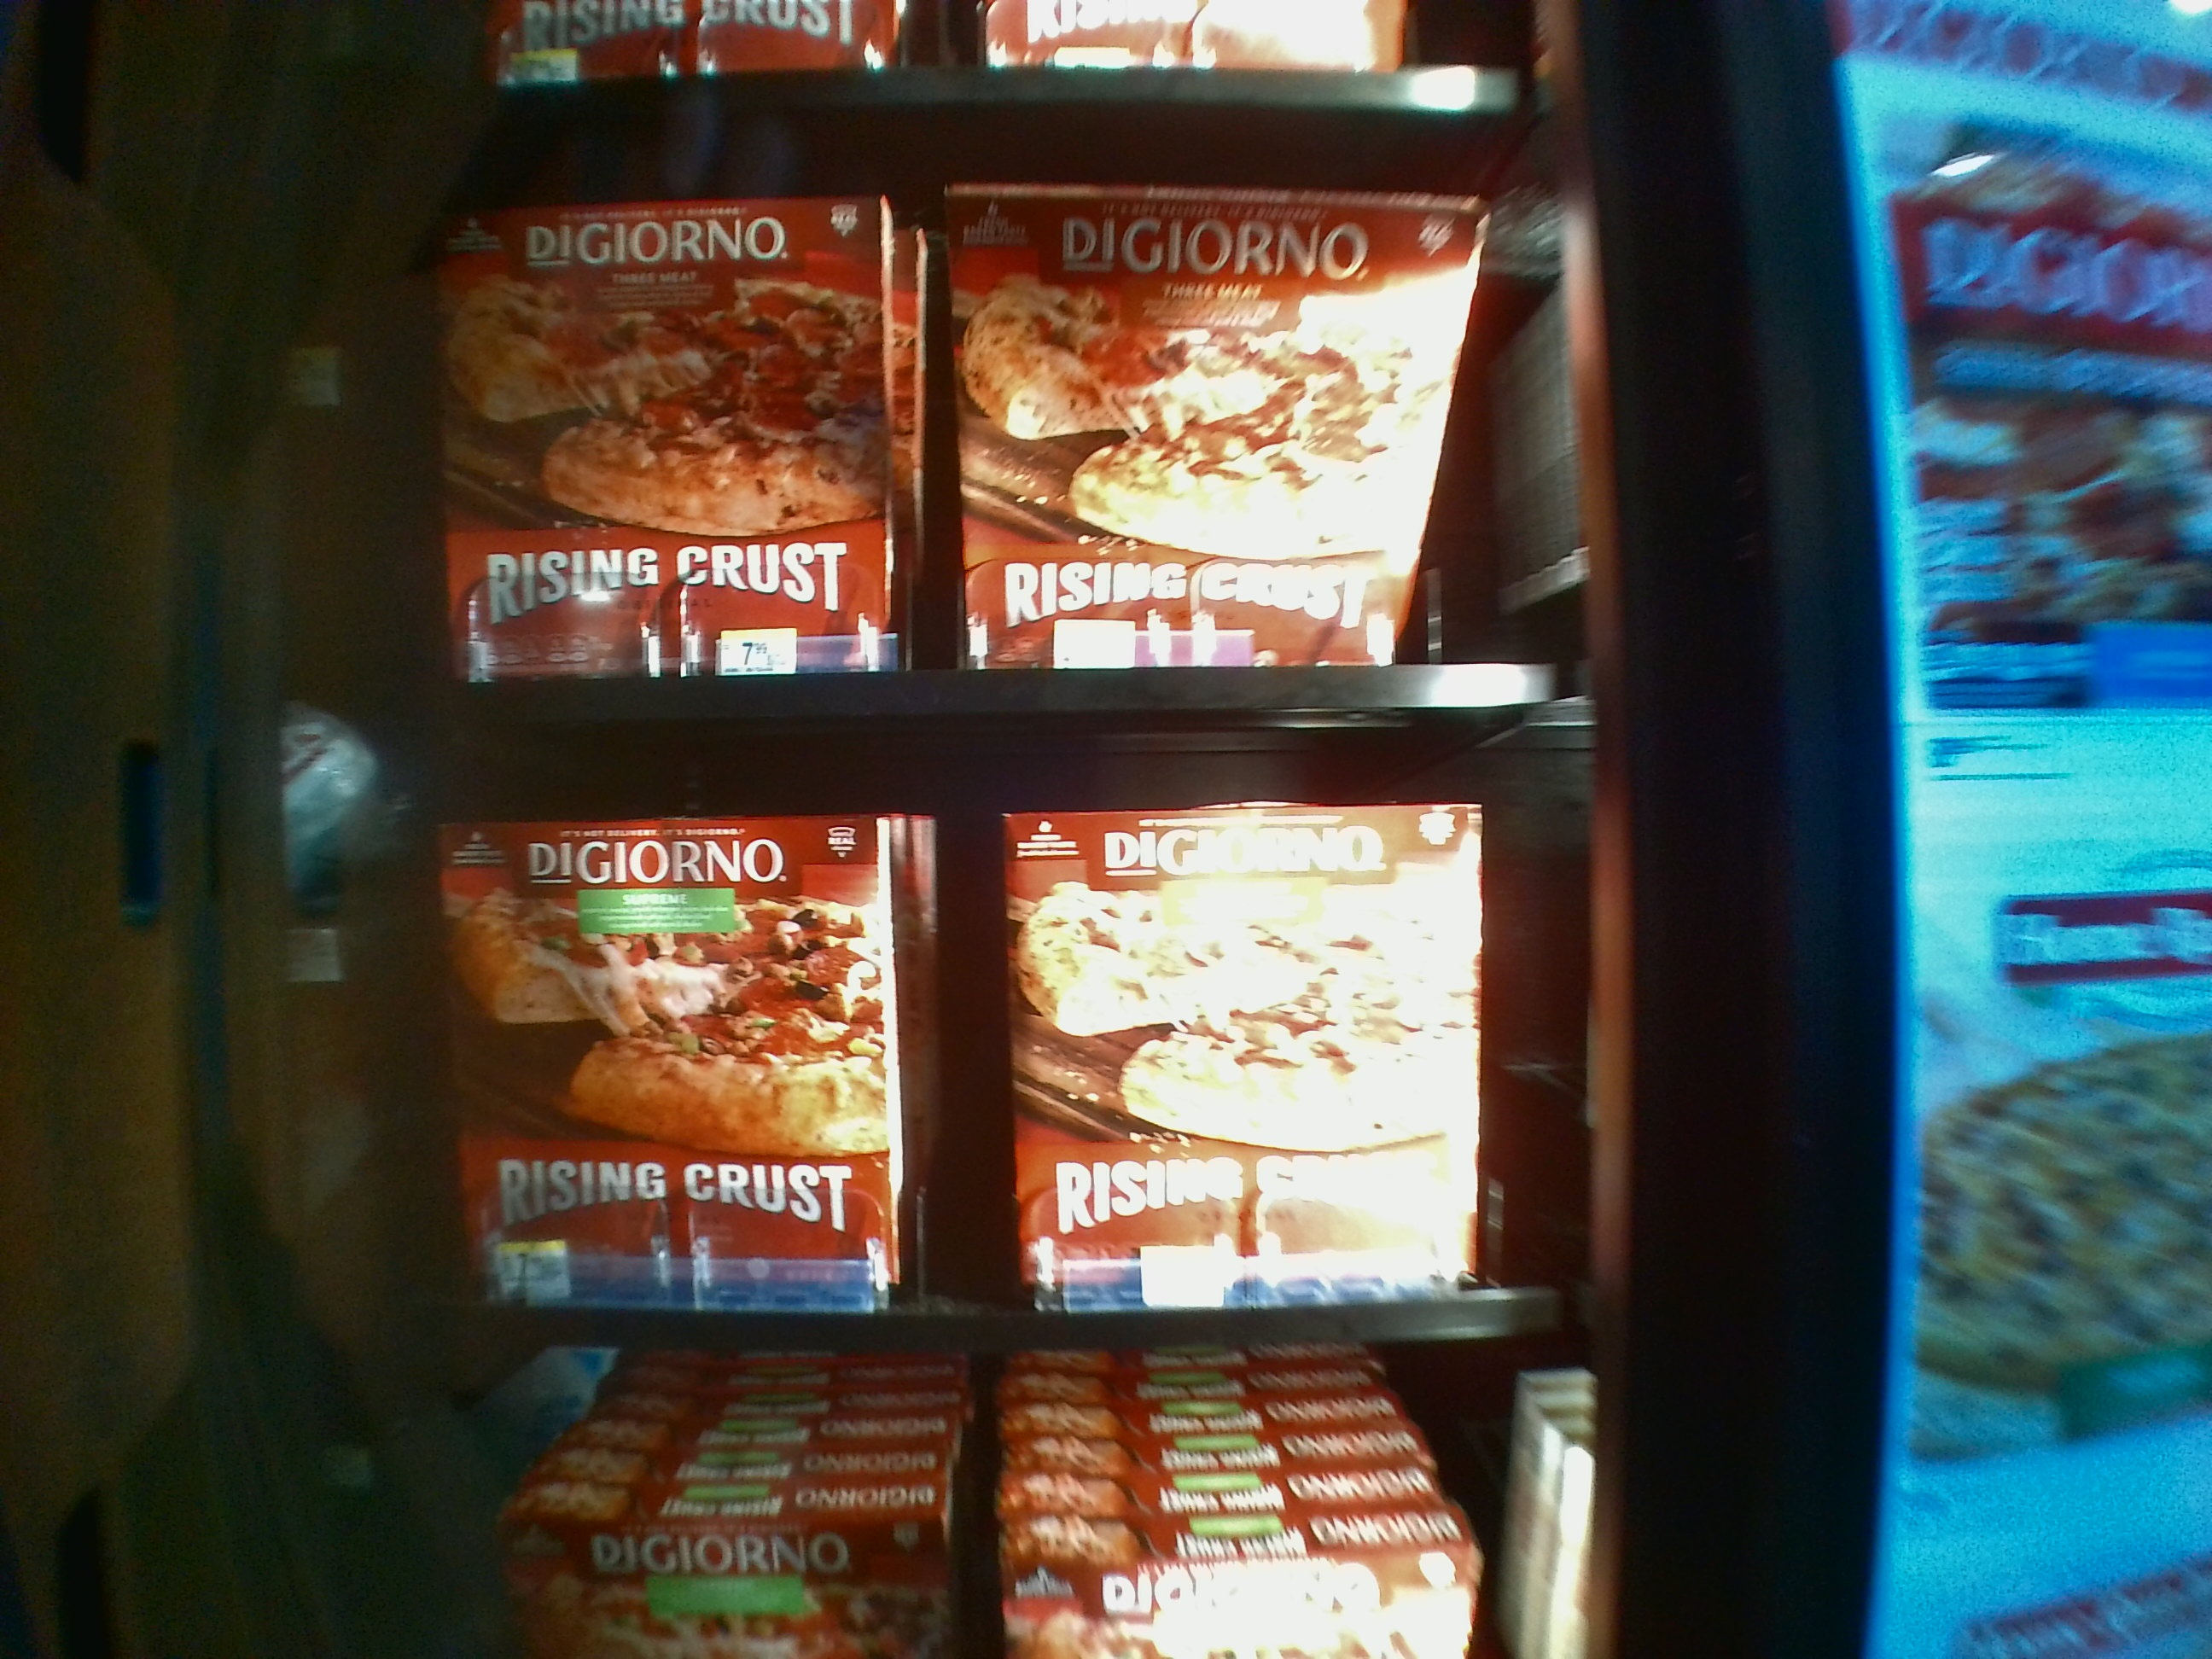shelf: (388, 734, 1583, 1338), (361, 134, 1578, 727)
